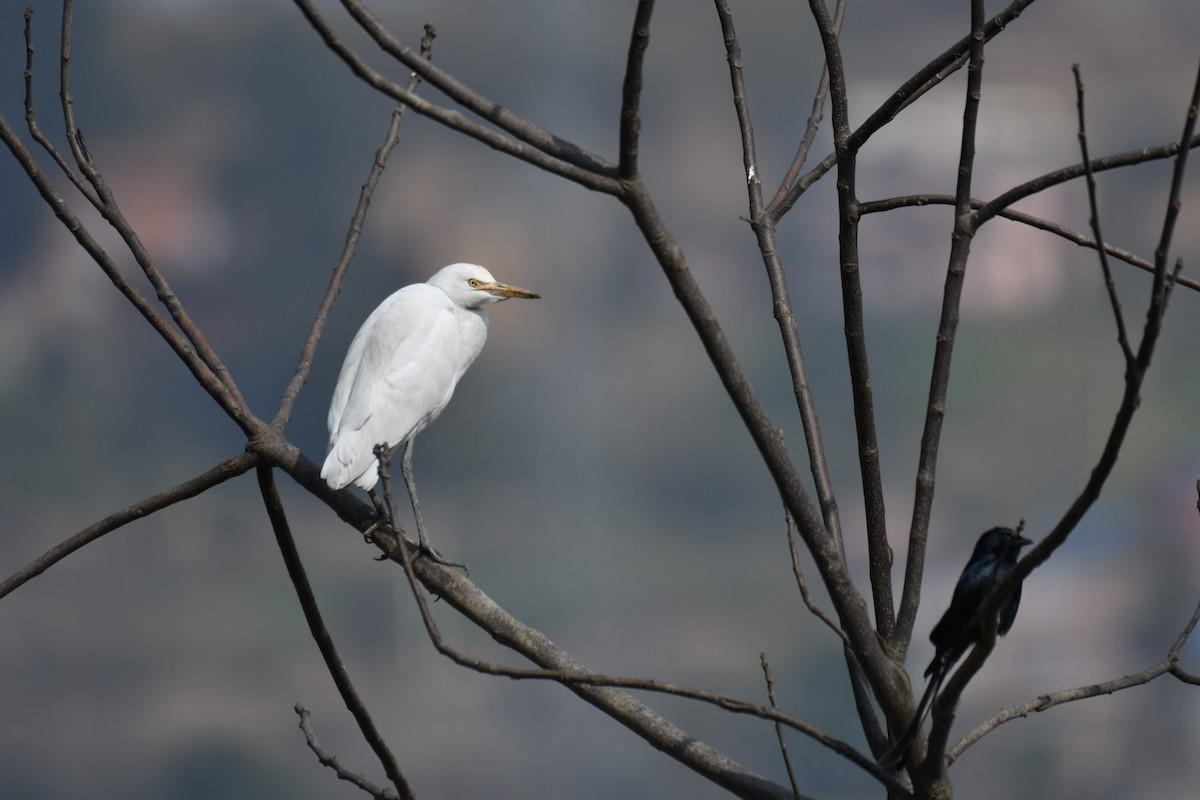egret: (327, 243, 542, 565)
